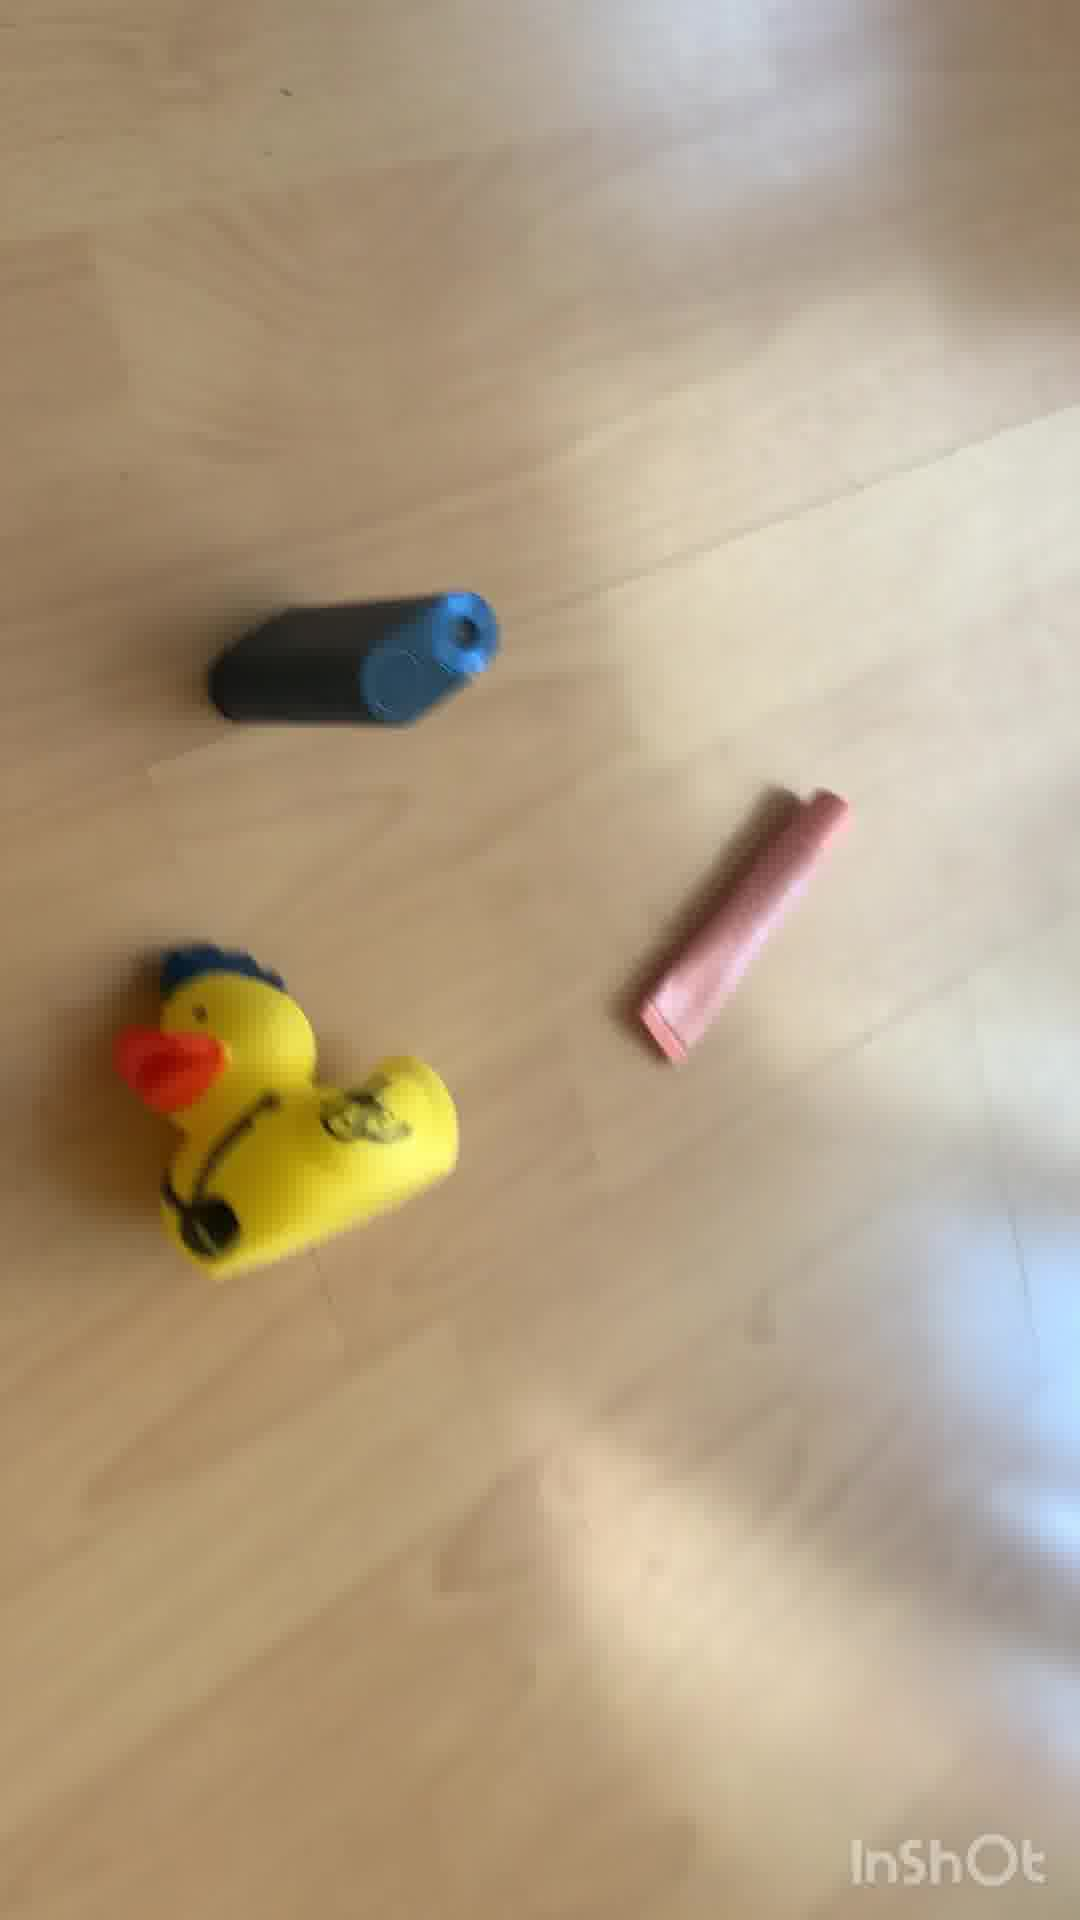duck: (113, 923, 454, 1280)
glo: (203, 582, 502, 731)
lip balm: (640, 767, 858, 1080)
